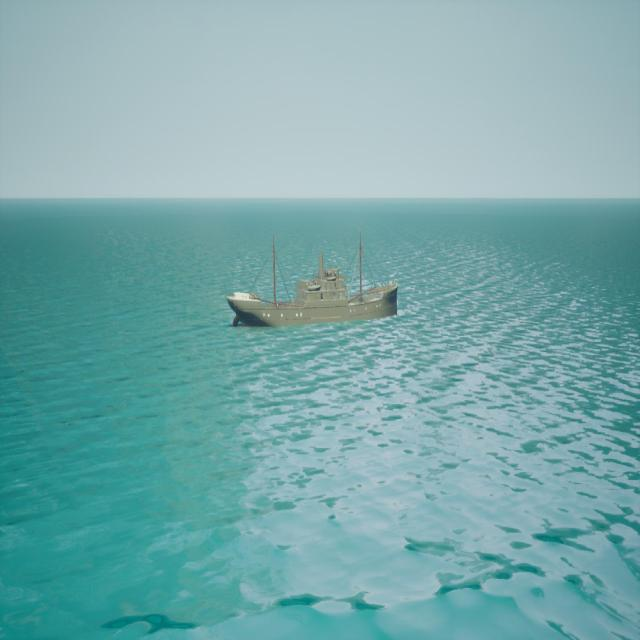fishing ship: (228, 232, 399, 331)
